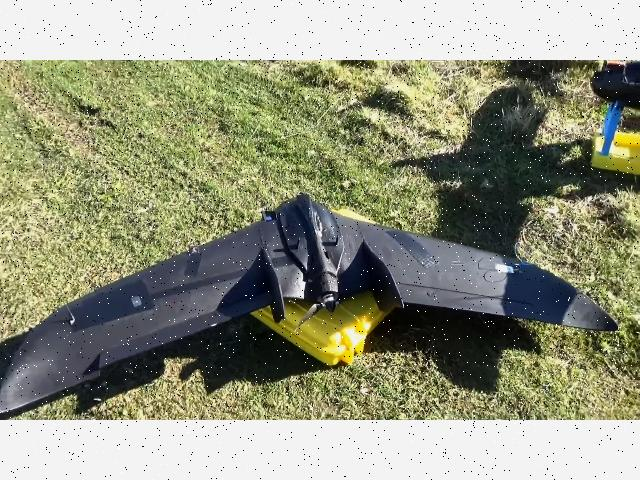Anti-Drone: (0, 140, 624, 406)
